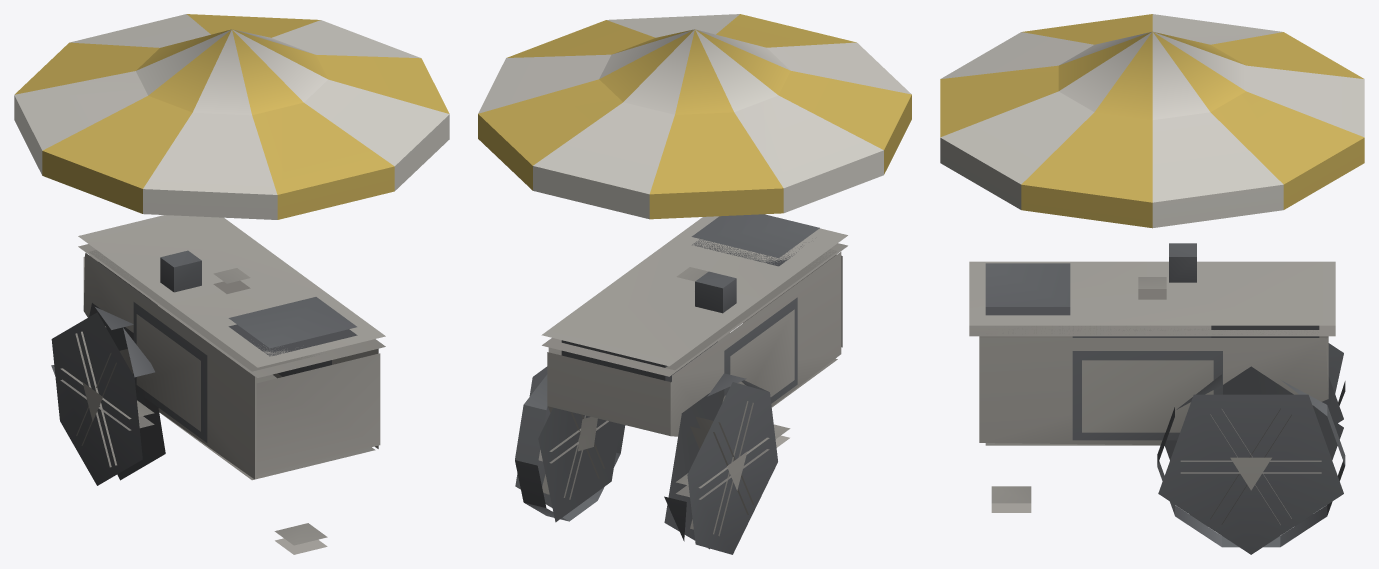
Rendered from hotdog.lod.glb.
The picture shows the model from 3 angles, left to right: view 1: azimuth 30°, elevation 25°; view 2: azimuth 150°, elevation 25°; view 3: azimuth 270°, elevation 25°; orthographic projection. The views are drawn at different scales.
Parts seen in each view (by area): view 1: hotdog; view 2: hotdog; view 3: hotdog.
Boxes of the visible parts, left/top/right/bottom form: hotdog: left=14, top=14, right=449, bottom=554; hotdog: left=478, top=14, right=911, bottom=554; hotdog: left=940, top=14, right=1364, bottom=554.
Size of the model in its own units: 1.9 by 2.26 by 1.81.
